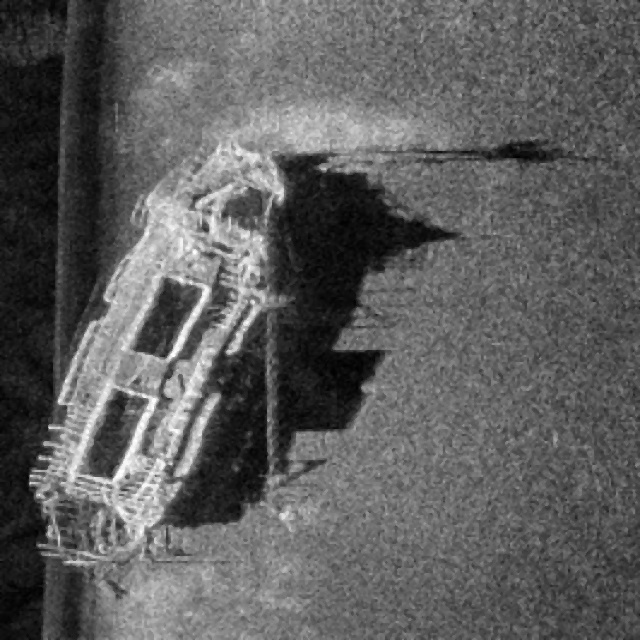Ship: (26, 130, 325, 589)
